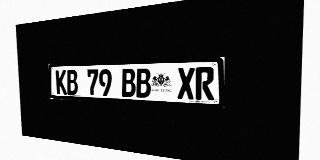7: (86, 69, 99, 96)
9: (99, 69, 112, 96)
B: (136, 68, 151, 98), (121, 69, 136, 97), (66, 70, 78, 95)
K: (55, 70, 67, 95)
R: (195, 67, 214, 100)
X: (177, 67, 195, 99)
